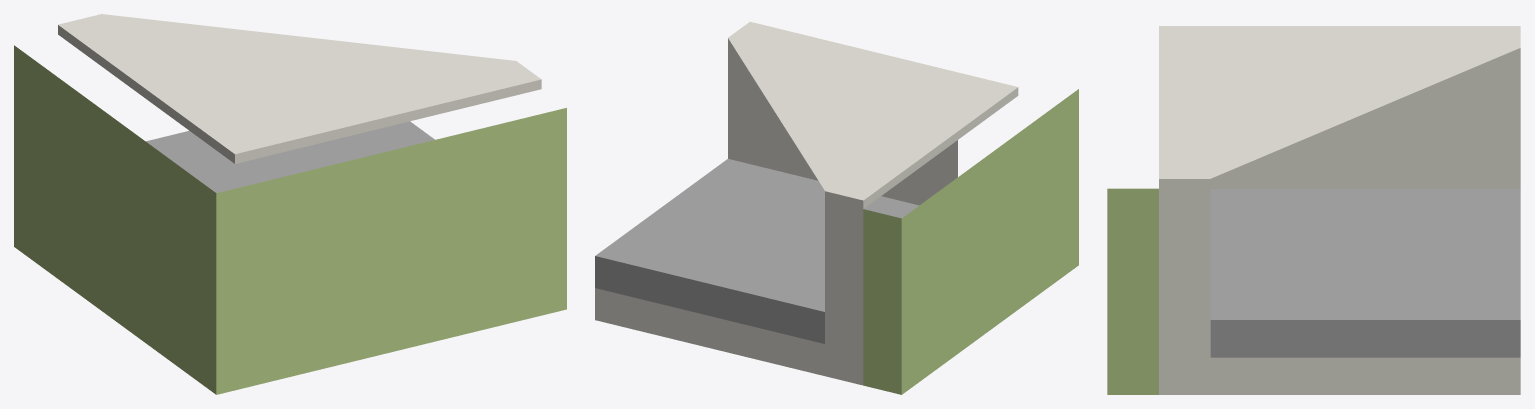
File: road-tile-045.glb
3 renders of one model, left to right at view 1: azimuth 30°, elevation 25°; view 2: azimuth 150°, elevation 25°; view 3: azimuth 270°, elevation 25°, orthographic. The views are drawn at different scales.
Visible parts, largest first — view 1: Mesh1 Group1 Model; view 2: Mesh1 Group1 Model; view 3: Mesh1 Group1 Model.
Boxes of the visible parts, left/top/right/bottom form: Mesh1 Group1 Model: left=14, top=14, right=566, bottom=394; Mesh1 Group1 Model: left=595, top=21, right=1078, bottom=394; Mesh1 Group1 Model: left=1107, top=26, right=1520, bottom=394.
Size of the model in its own units: 3 by 1.73 by 3.
